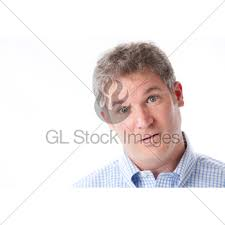white_male: (109, 67, 198, 186)
